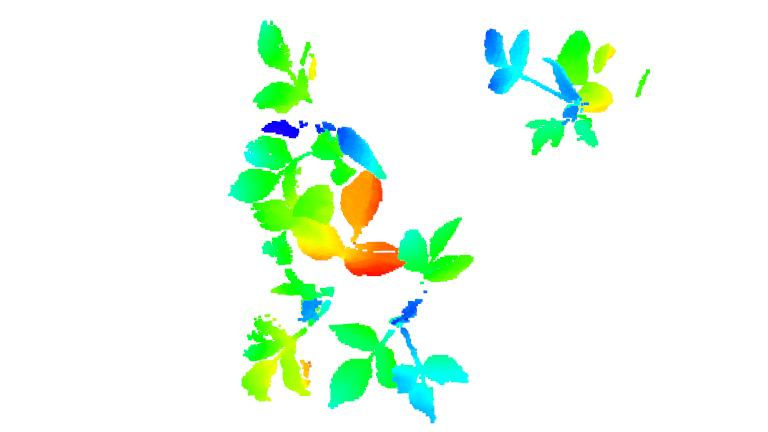mungbean: (235, 172, 403, 396), (325, 214, 479, 425), (224, 16, 396, 199), (481, 22, 624, 150)
